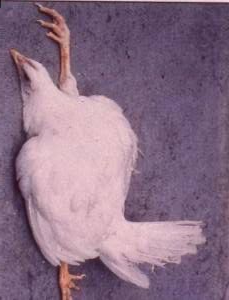Unhealthy: (4, 6, 213, 295)
